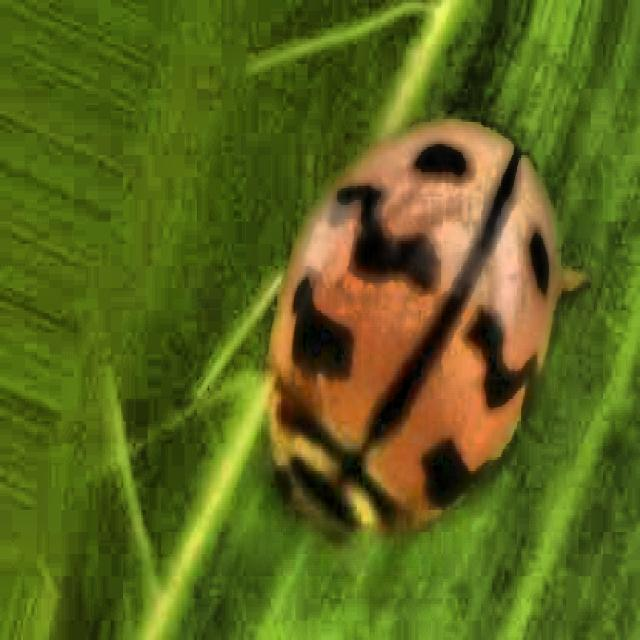Asian-Lady-beetle: (242, 55, 590, 636)
